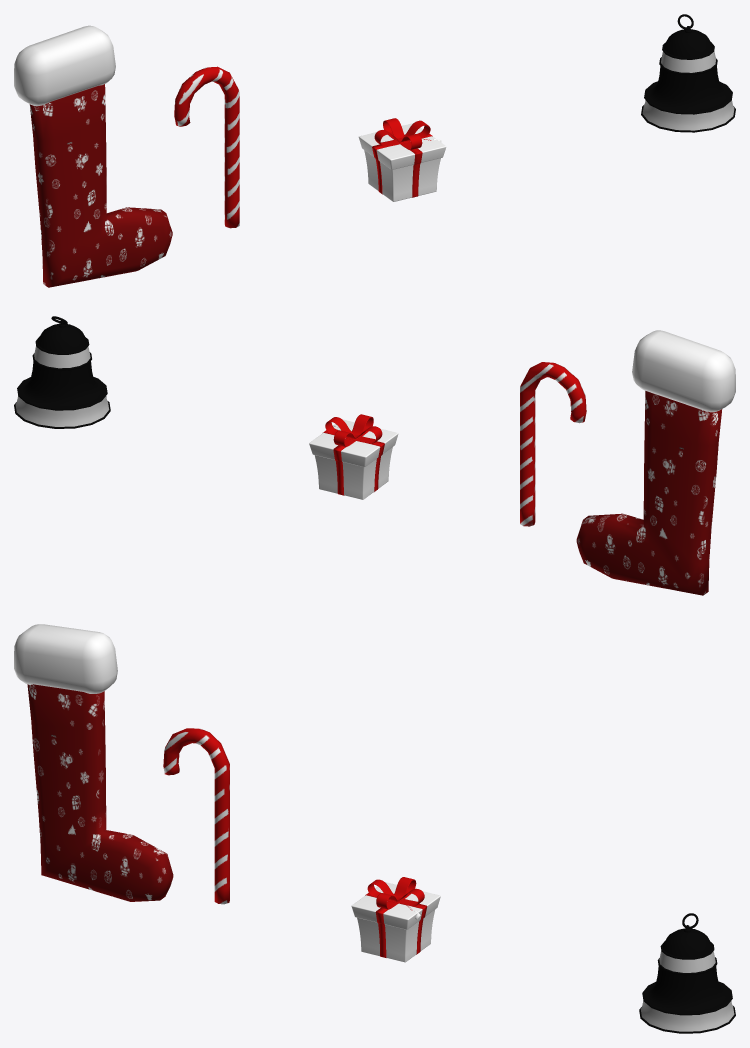
File: gift.FBX
3 renders of one model, top to bottom at view 1: azimuth 30°, elevation 25°; view 2: azimuth 150°, elevation 25°; view 3: azimuth 330°, elevation 25°, orthographic.
Parts seen in each view (by area): view 1: socks, Ring, ChamferBox02, candy_stick; view 2: socks, Ring, ChamferBox02, candy_stick; view 3: socks, Ring, ChamferBox02, candy_stick.
Boxes of the visible parts, box(x1,y1,x2,y2) form: socks: box(14, 25, 172, 287); Ring: box(641, 14, 735, 132); ChamferBox02: box(358, 118, 446, 201); candy_stick: box(174, 66, 239, 228); socks: box(576, 330, 735, 595); Ring: box(14, 316, 110, 428); ChamferBox02: box(309, 414, 398, 499); candy_stick: box(520, 362, 586, 526); socks: box(14, 624, 173, 901); Ring: box(639, 913, 735, 1033); ChamferBox02: box(351, 877, 440, 962); candy_stick: box(163, 728, 229, 904).
Size of the model in its own units: 283 by 95.47 by 33.3.
